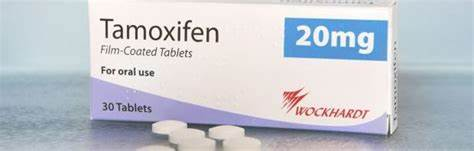Medicine: (82, 2, 405, 138)
